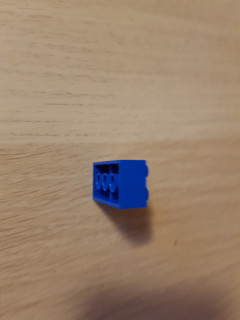2x4 blue: (90, 157, 149, 209)
